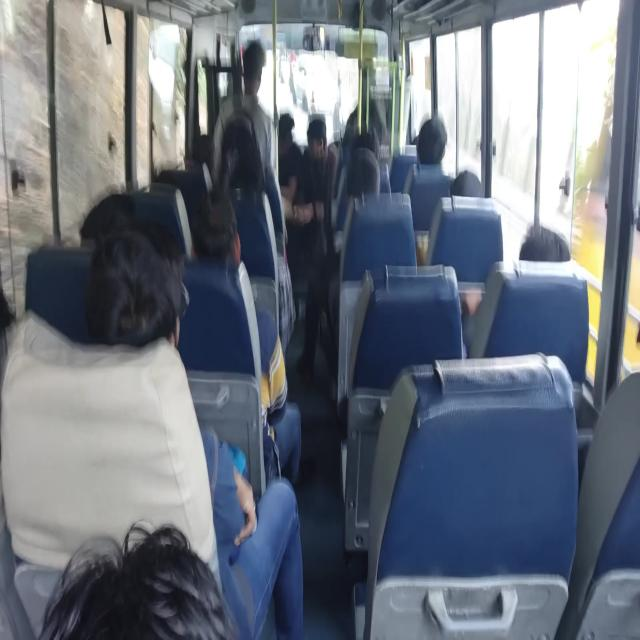person: (61, 518, 269, 640), (86, 235, 207, 396), (523, 222, 614, 328), (75, 184, 142, 246), (196, 182, 250, 255), (228, 144, 276, 206), (420, 116, 458, 190), (309, 121, 344, 176), (346, 158, 396, 196), (164, 150, 203, 190), (241, 48, 271, 96), (190, 126, 222, 161), (409, 122, 436, 158), (454, 175, 486, 203), (351, 133, 379, 163), (631, 330, 640, 413), (275, 122, 295, 156)
